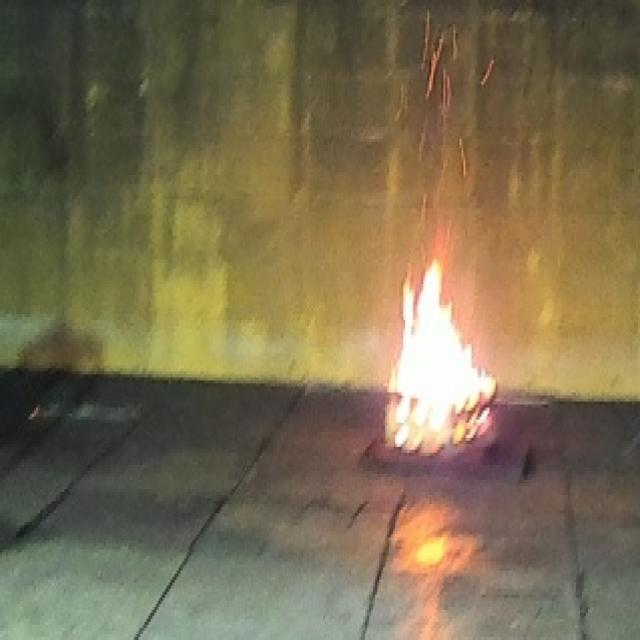Fire: (387, 257, 498, 451)
